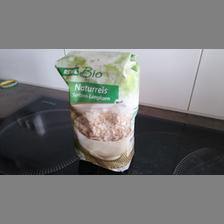Reis: (54, 48, 140, 172)
